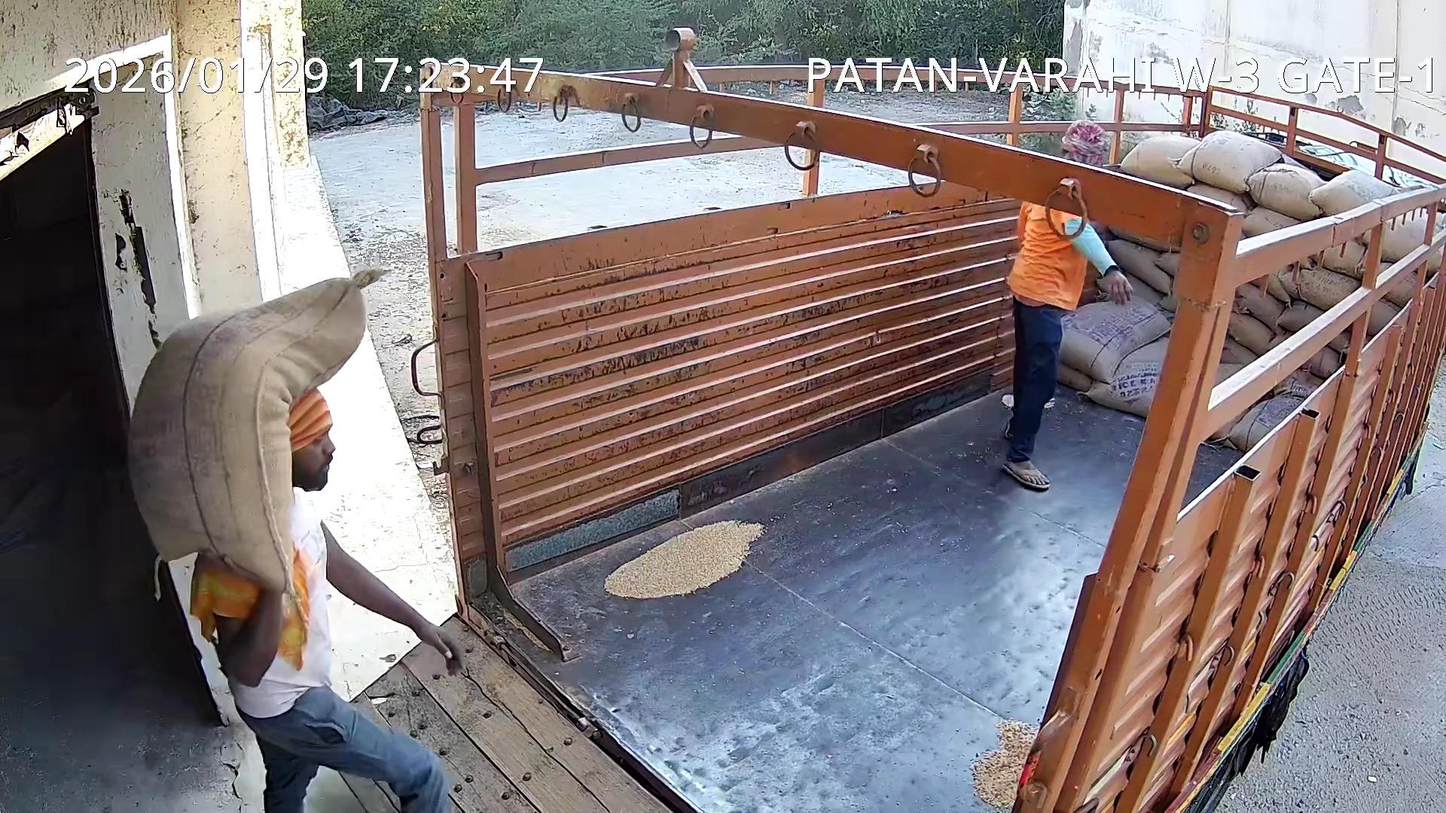Sack: (129, 269, 385, 589)
